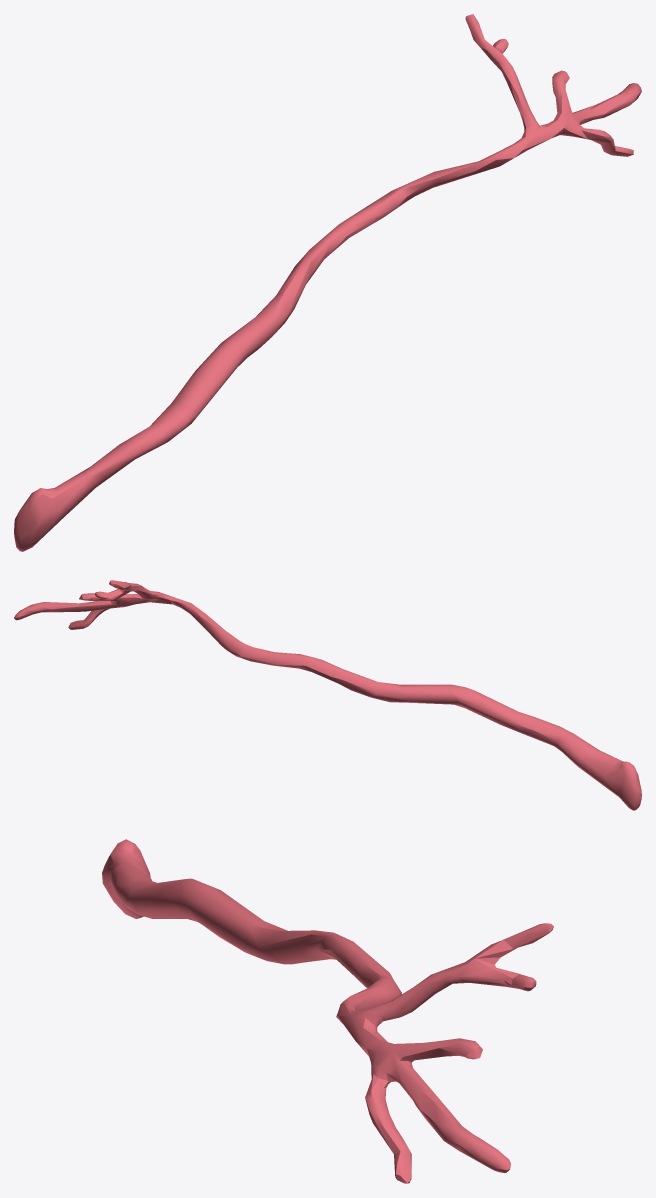
Rendered from fma14331_fj3641.glb.
The picture shows the model from 3 angles, top to bottom: view 1: azimuth 30°, elevation 25°; view 2: azimuth 150°, elevation 25°; view 3: azimuth 270°, elevation 25°; orthographic projection. The views are drawn at different scales.
Parts seen in each view (by area): view 1: FMA14331_FJ3641; view 2: FMA14331_FJ3641; view 3: FMA14331_FJ3641.
Boxes of the visible parts, bbox=[...] form: FMA14331_FJ3641: bbox=[14, 14, 641, 551]; FMA14331_FJ3641: bbox=[14, 580, 641, 810]; FMA14331_FJ3641: bbox=[102, 839, 553, 1183].
Size of the model in its own units: 0.1119 by 0.0405 by 0.041.
